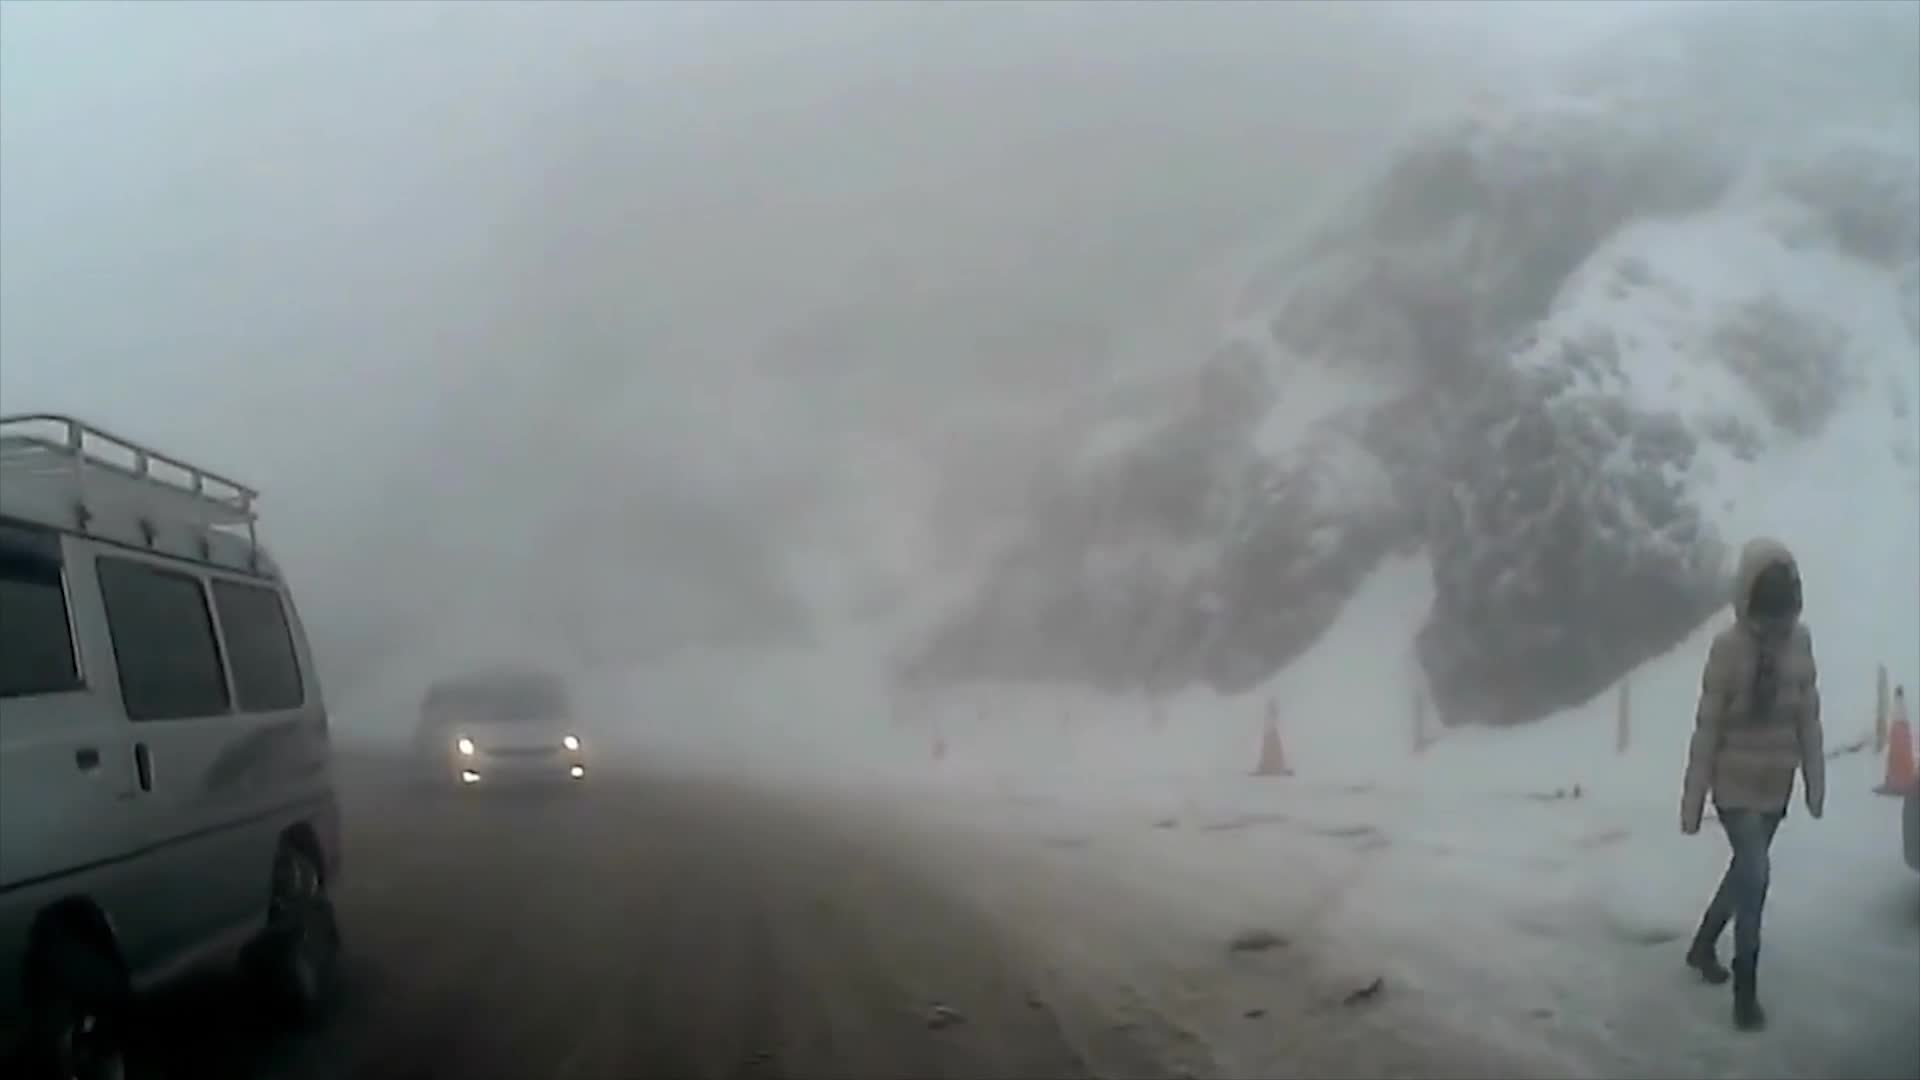pedestrian: (1677, 536, 1830, 1030)
vehicle: (0, 410, 357, 1080), (413, 672, 593, 804)
